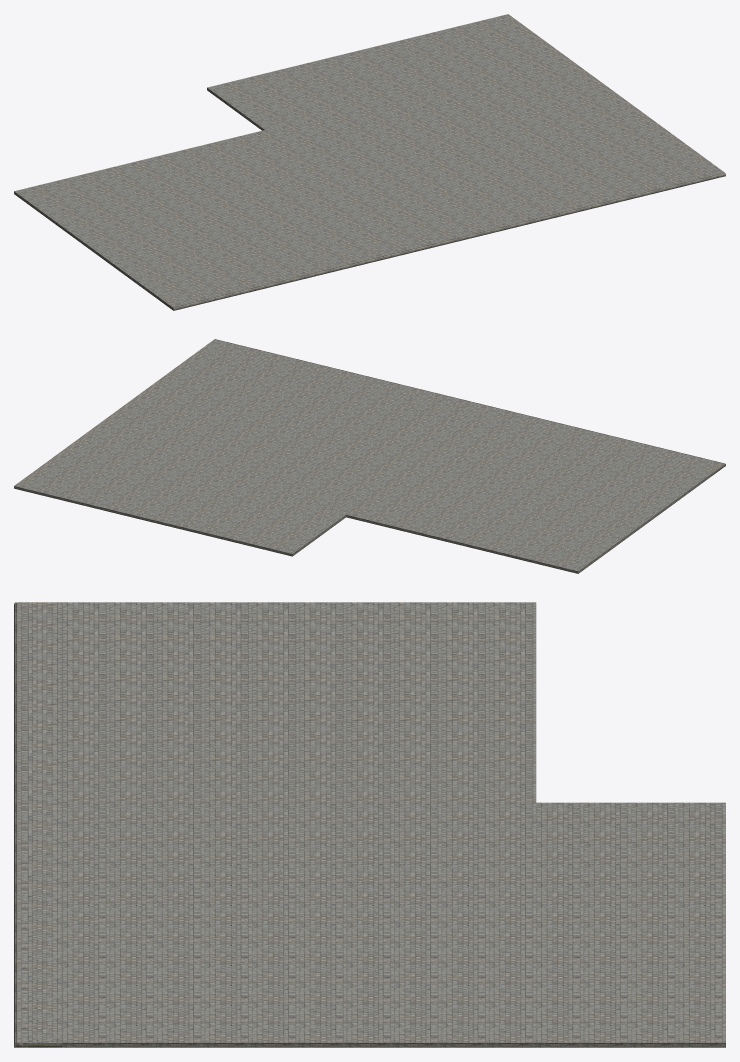
File: Area1Pavement2.fbx
The picture shows the model from 3 angles, top to bottom: view 1: azimuth 30°, elevation 25°; view 2: azimuth 150°, elevation 25°; view 3: azimuth 270°, elevation 25°; orthographic projection. The views are drawn at different scales.
Visible parts, largest first — view 1: Area1Pavement2; view 2: Area1Pavement2; view 3: Area1Pavement2.
Part boxes in pixels (left/top/right/bottom): Area1Pavement2: left=14, top=14, right=725, bottom=310; Area1Pavement2: left=14, top=339, right=725, bottom=573; Area1Pavement2: left=14, top=602, right=725, bottom=1047.
Size of the model in its own units: 2816 by 13.59 by 1922.
